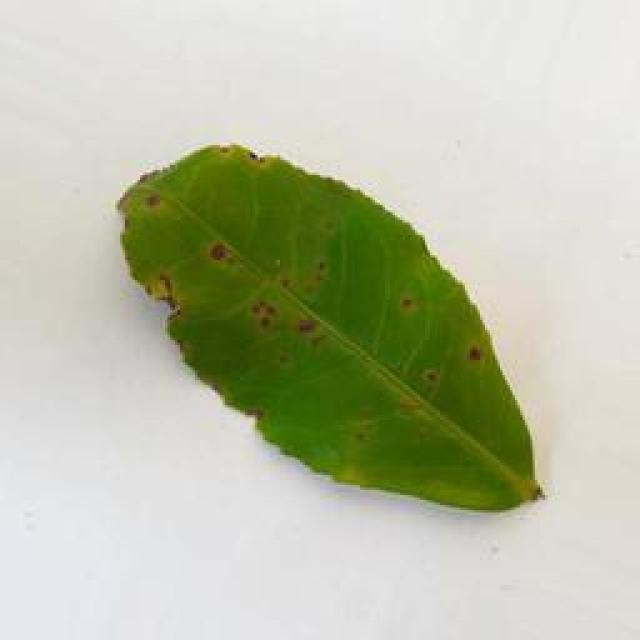Helopeltis: (122, 147, 556, 512)
